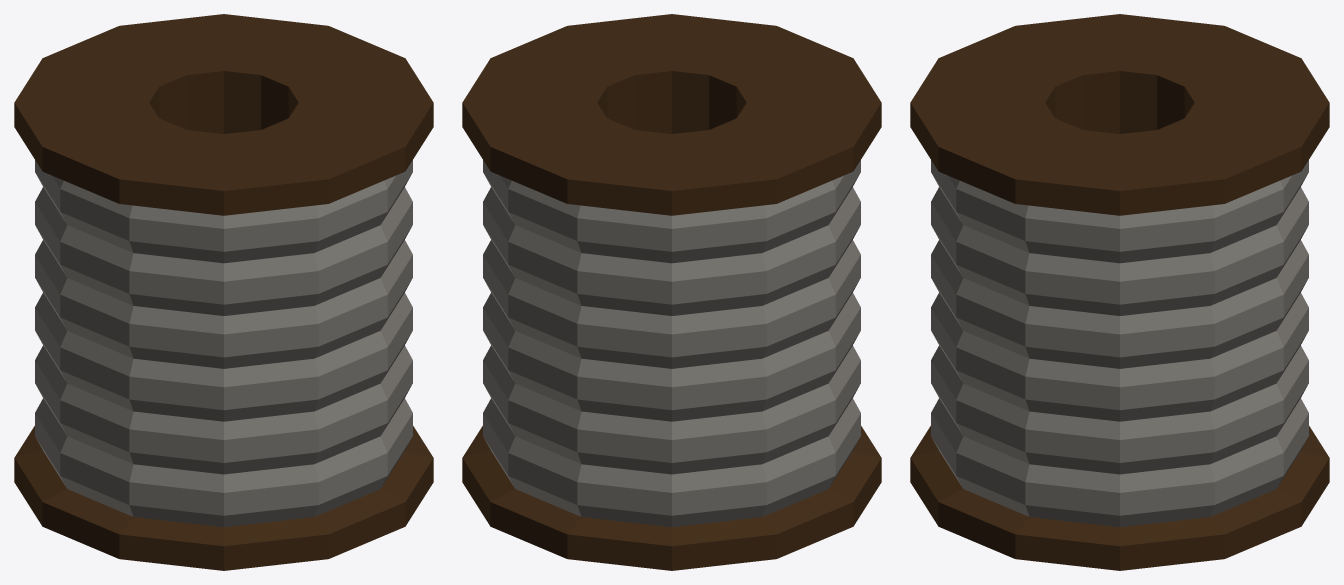
3 renders of one model, left to right at view 1: azimuth 30°, elevation 25°; view 2: azimuth 150°, elevation 25°; view 3: azimuth 270°, elevation 25°, orthographic.
Visible parts, largest first — view 1: Цилиндр.007; view 2: Цилиндр.007; view 3: Цилиндр.007.
Boxes of the visible parts, bbox=[...] form: Цилиндр.007: bbox=[14, 14, 433, 570]; Цилиндр.007: bbox=[462, 14, 881, 570]; Цилиндр.007: bbox=[910, 14, 1329, 570].
Size of the model in its own units: 100 by 100 by 100.
